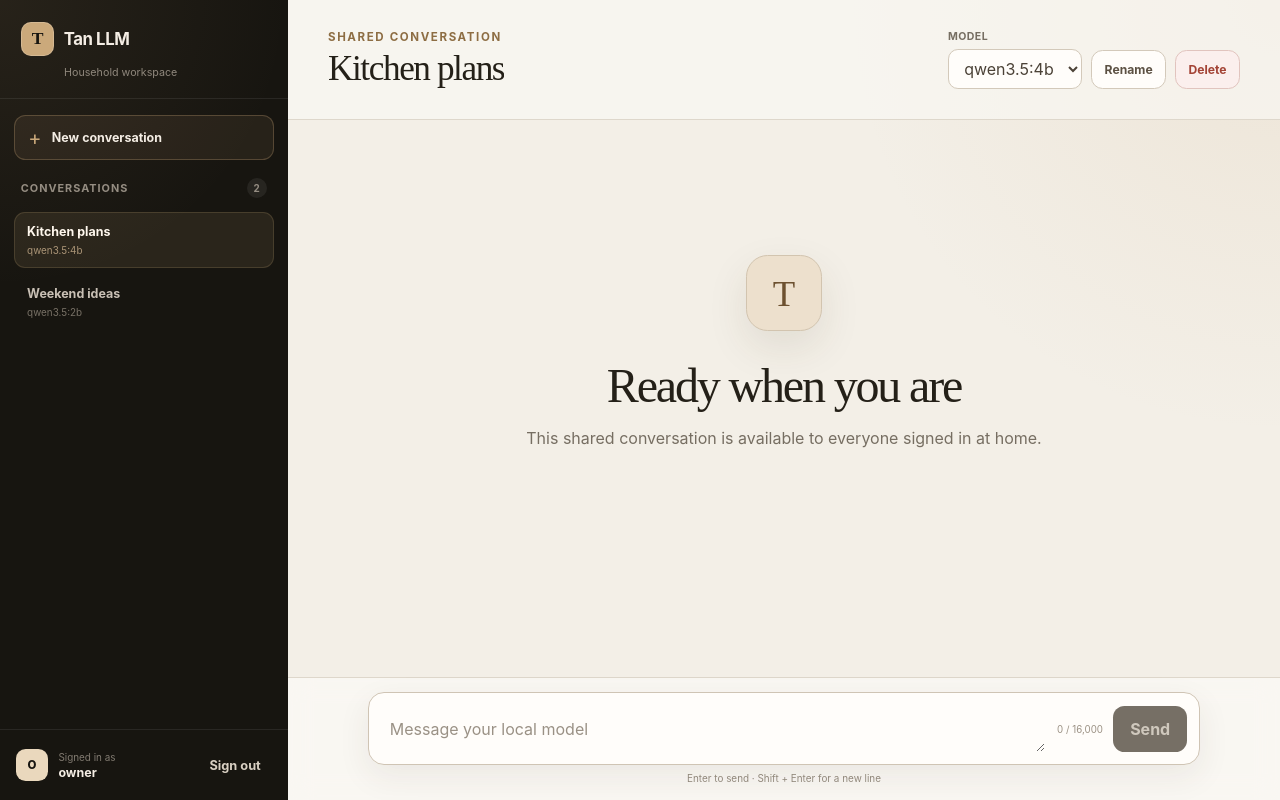
Test case: shared conversation management › keeps a draft when another household request is busy
Expected: the heading "Ready when you are" is shown, 607,358 -> 961,413
Type "Keep this draft" into the text box labelled "Message". click: (713,729)
box: 381,705 -> 1045,752
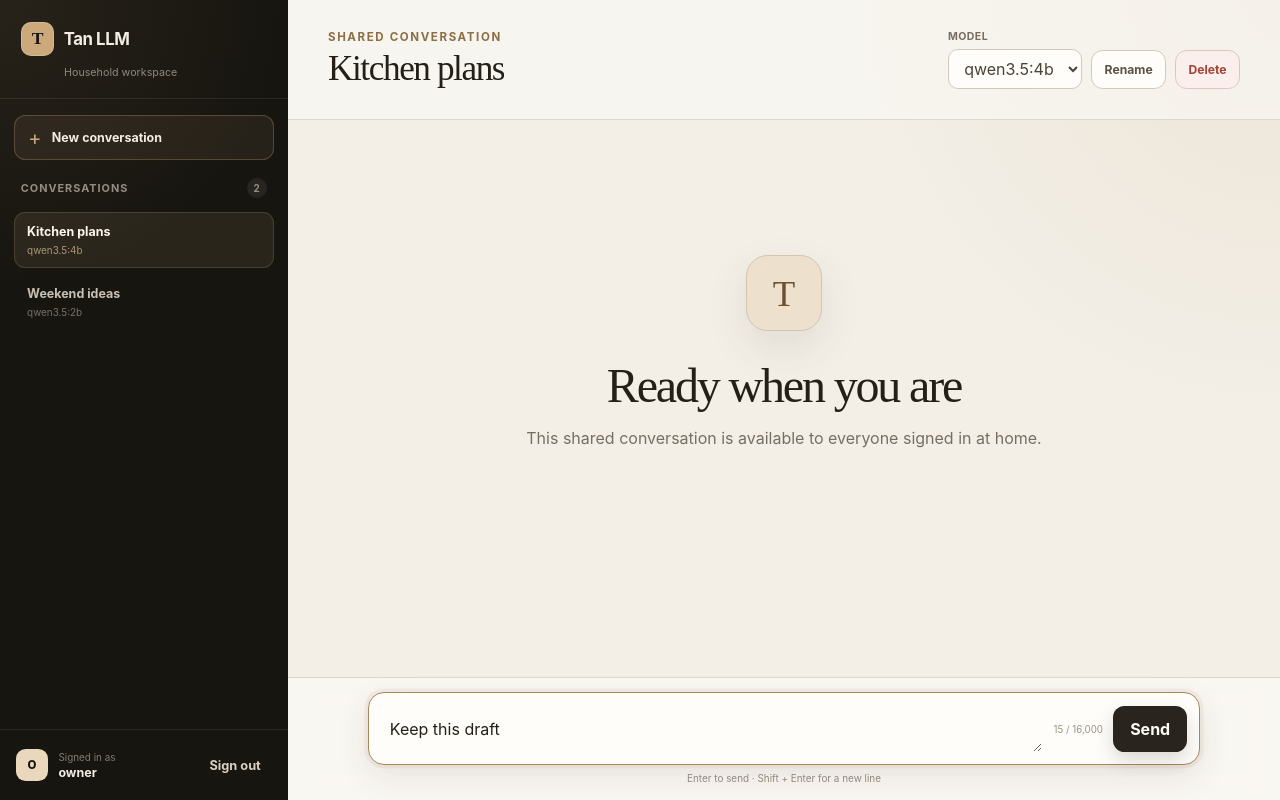
Click the button "Send". click: (1150,729)
box: 1113,706 -> 1187,752
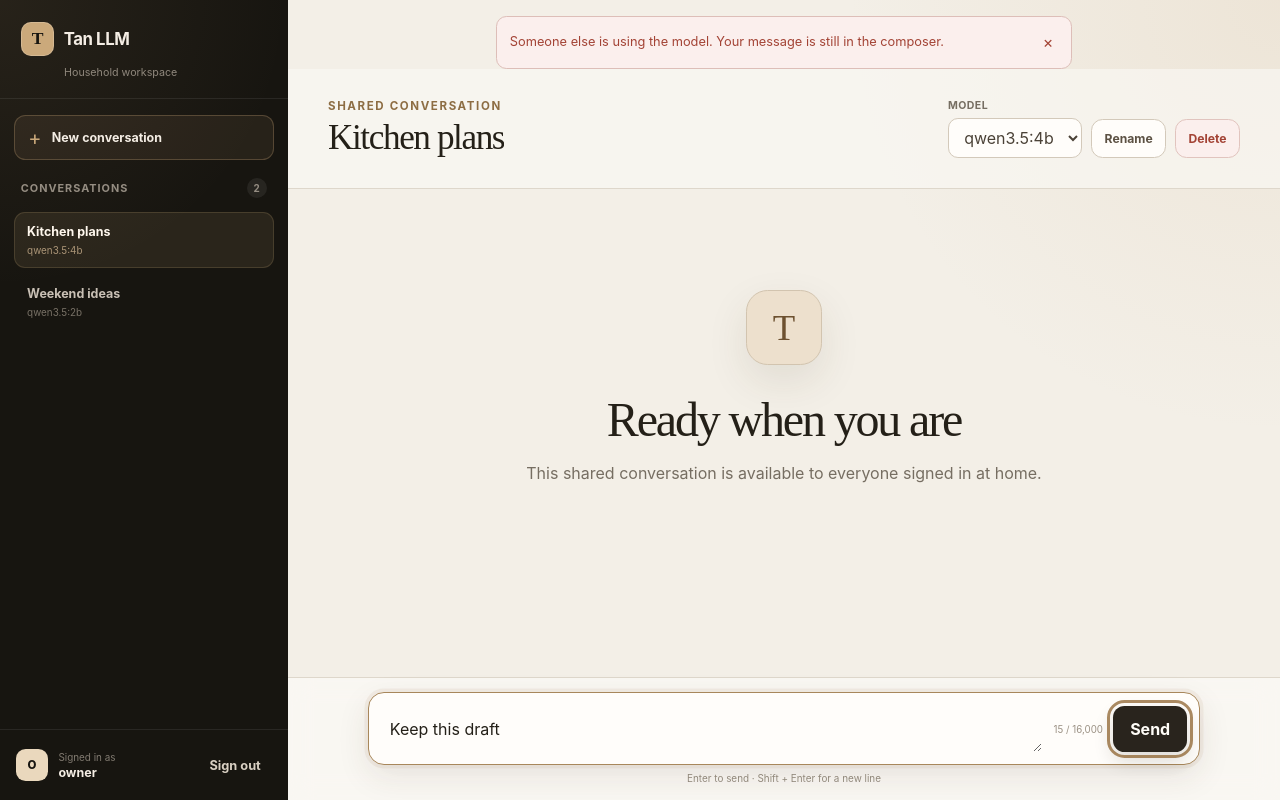
Expected: the message shows "Someone else is using the model", 510,34 -> 944,49
